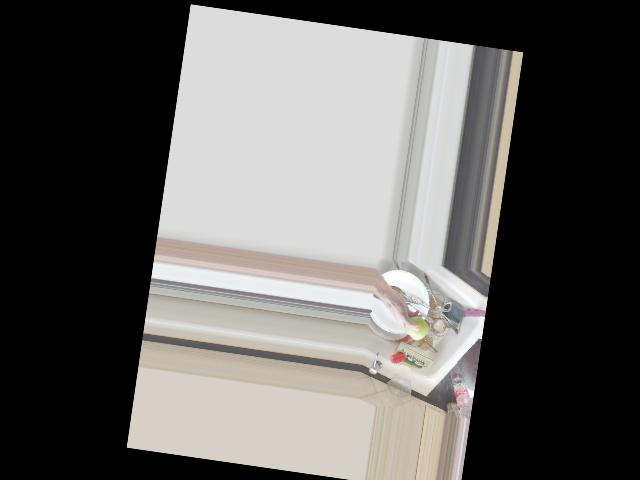apple: (401, 312, 430, 342)
